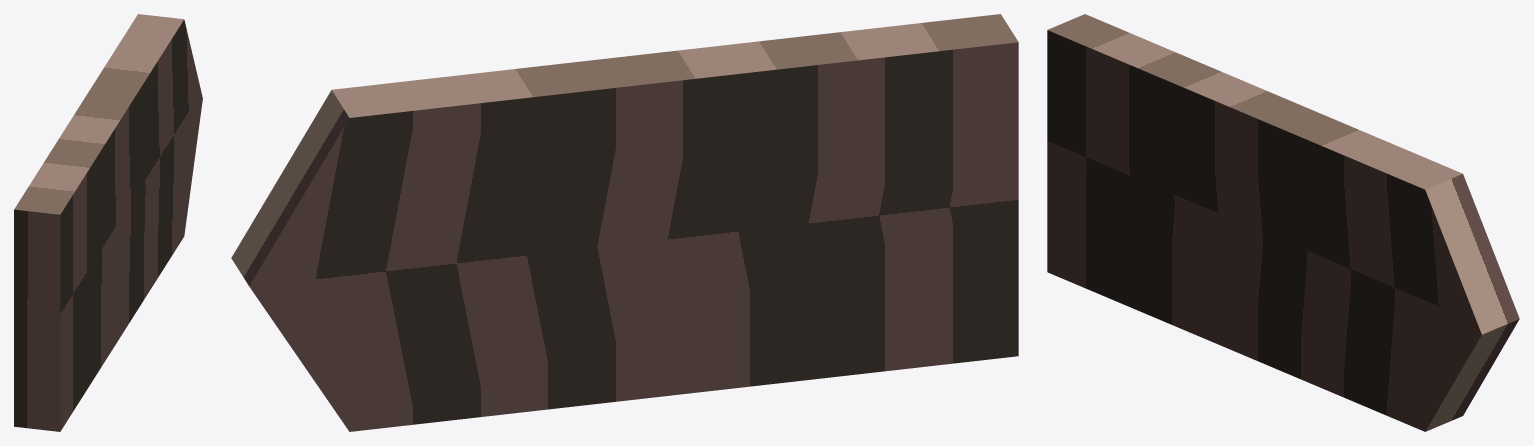
File: sign_379x04.gltf
3 renders of one model, left to right at view 1: azimuth 30°, elevation 25°; view 2: azimuth 150°, elevation 25°; view 3: azimuth 270°, elevation 25°, orthographic. The views are drawn at different scales.
Visible parts, largest first — view 1: sign_379x04; view 2: sign_379x04; view 3: sign_379x04.
Part boxes in pixels (box(x1,y1,x2,y2)): sign_379x04: box(14, 14, 202, 431); sign_379x04: box(231, 14, 1018, 431); sign_379x04: box(1047, 14, 1519, 431).
Size of the model in its own units: 0.8839 by 0.5 by 0.8839.
Materials: 1 (1 with a texture image).
